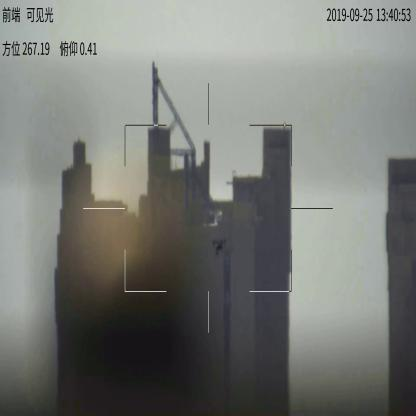uav: (212, 235, 228, 254)
